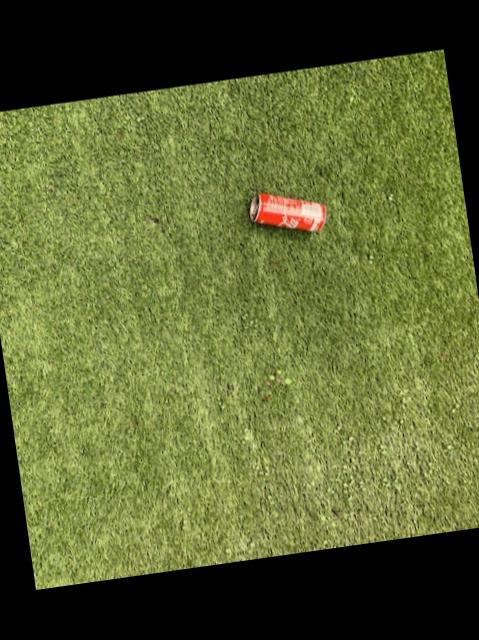metal: (248, 195, 323, 233)
